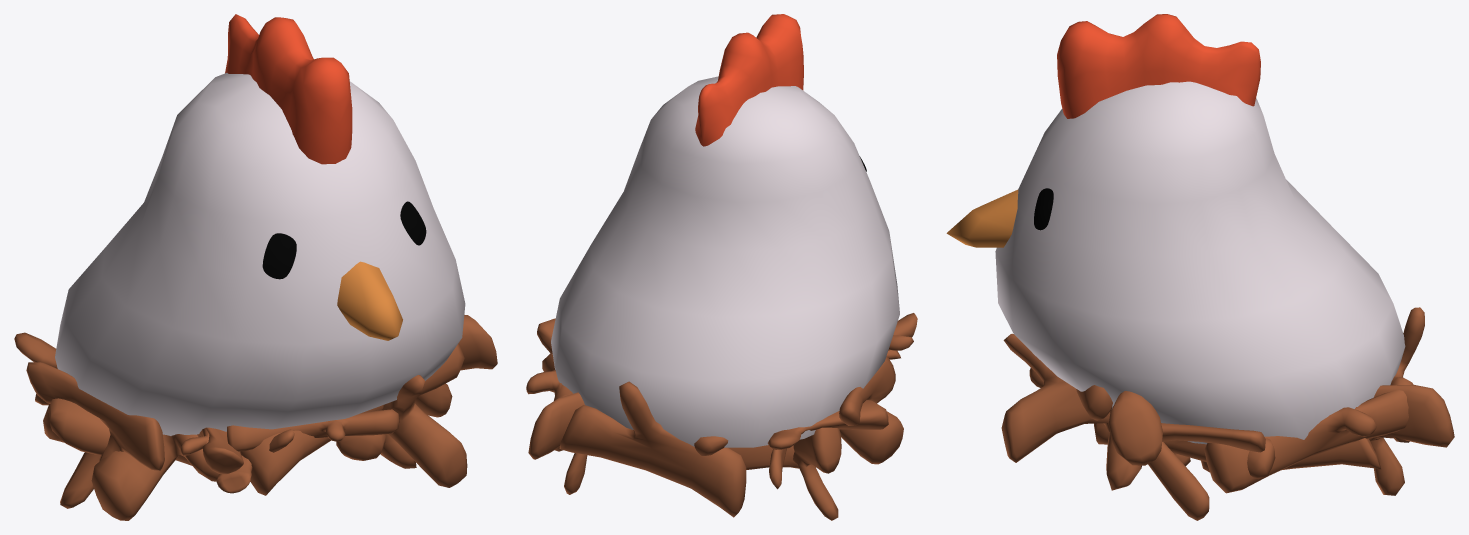
File: ChickenHat (3).fbx
3 views of the same model, side by side, from view 1: azimuth 30°, elevation 25°; view 2: azimuth 150°, elevation 25°; view 3: azimuth 270°, elevation 25° (orthographic). The views are drawn at different scales.
Visible parts, largest first — view 1: Nest; view 2: Nest; view 3: Nest.
Boxes of the visible parts, left/top/right/bottom form: Nest: left=14, top=14, right=497, bottom=520; Nest: left=526, top=14, right=917, bottom=520; Nest: left=946, top=14, right=1454, bottom=520.
Bounding box in the file's own units: 28.85 × 34.23 × 34.22.
